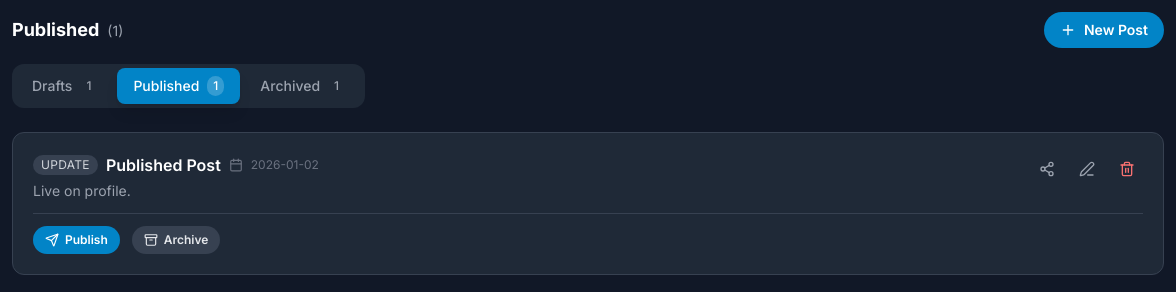
Test: PostManager (owner, isolated) › filters by status view: Drafts shows drafts, Archived shows archived
The image size is (1176, 292).
Click the tab "Drafts 1" at (65, 86), box [16, 68, 113, 104]
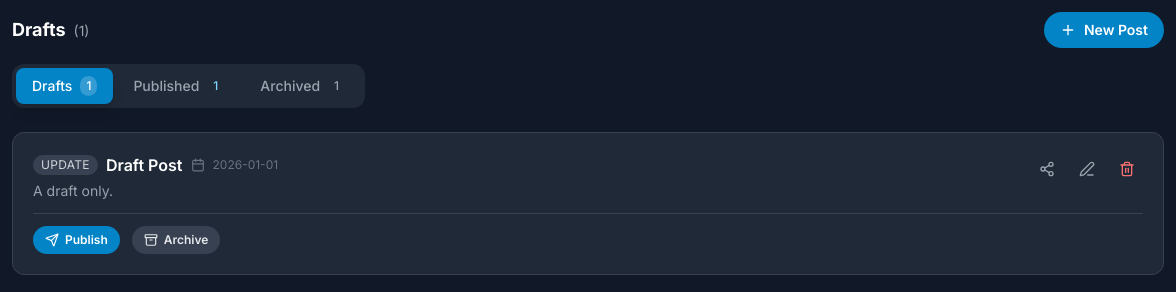
Expected: the heading "Draft Post" is shown, [106, 153, 182, 177]
Expected: the heading "Published Post" is gone
Click the tab "Archived 1" at (303, 86), box [244, 68, 361, 104]
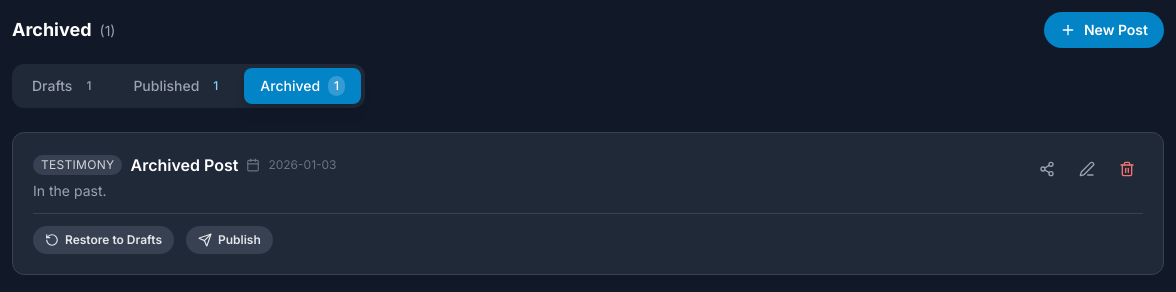
Expected: the heading "Published Post" is not shown
Expected: the heading "Archived Post" is shown, [130, 153, 238, 177]
